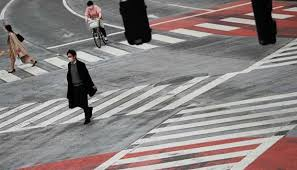mask: (66, 49, 78, 64), (86, 0, 95, 11), (2, 23, 10, 34)
